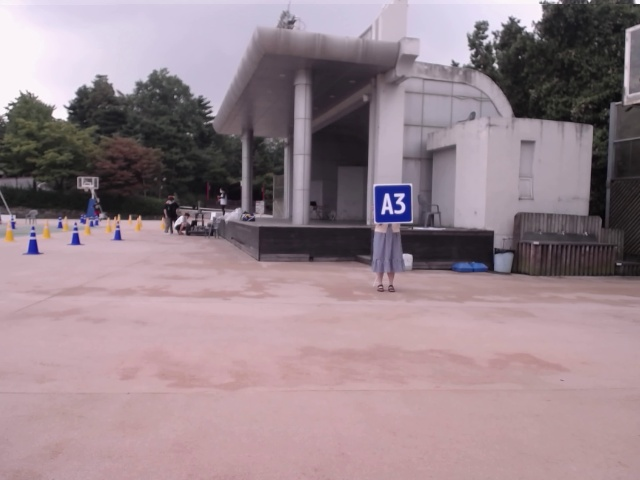delivery_a3: (374, 184, 412, 223)
